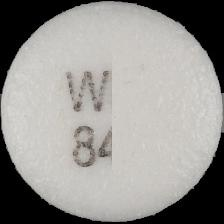54868-4988: (0, 0, 224, 224)
